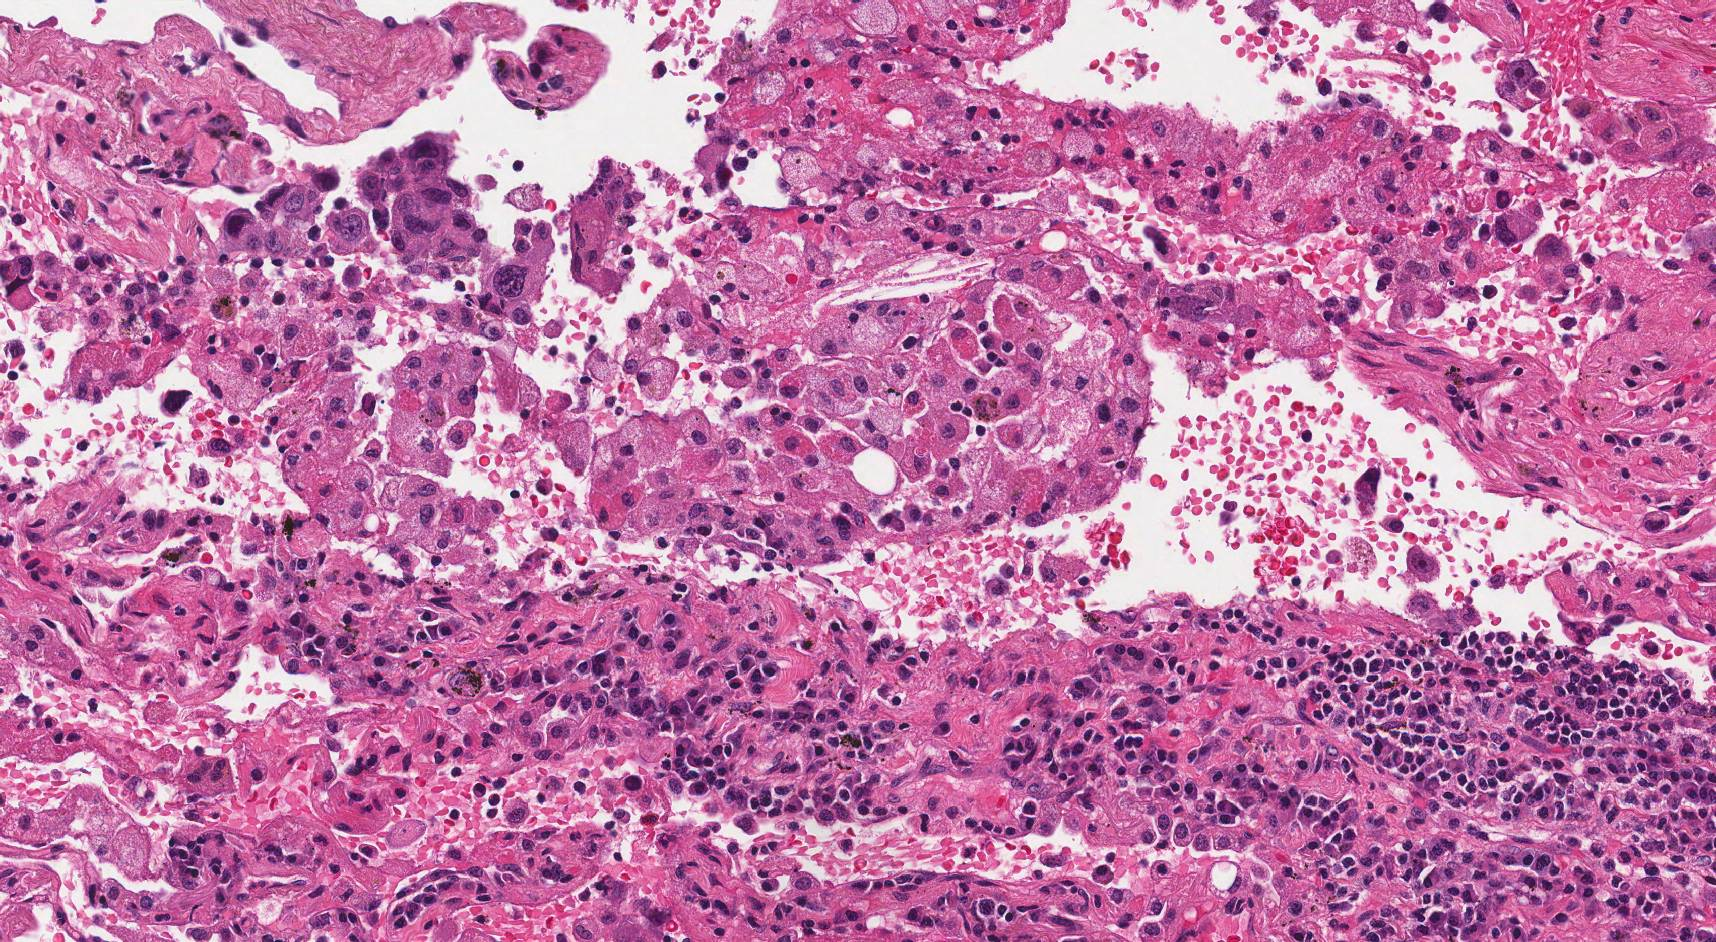stas: (220, 129, 556, 337)
